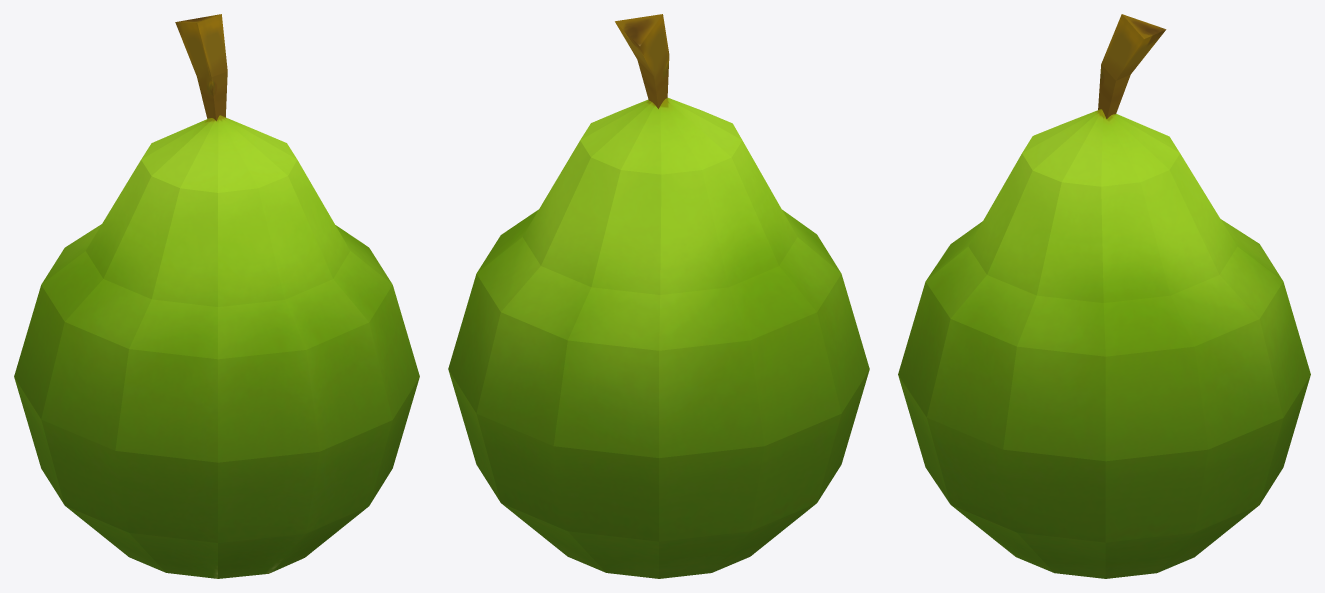
The model's file is pear.gltf.
3 views of the same model, side by side, from view 1: azimuth 30°, elevation 25°; view 2: azimuth 150°, elevation 25°; view 3: azimuth 270°, elevation 25° (orthographic). The views are drawn at different scales.
Visible parts, largest first — view 1: fruis_and_vegetables.025; view 2: fruis_and_vegetables.025; view 3: fruis_and_vegetables.025.
Boxes of the visible parts, x1,y1,x2,y2 form: fruis_and_vegetables.025: (14,14,419,578); fruis_and_vegetables.025: (448,14,869,578); fruis_and_vegetables.025: (898,14,1310,578).
Bounding box in the file's own units: 0.1468 × 0.2034 × 0.1476.
1 material, 1 textured.
